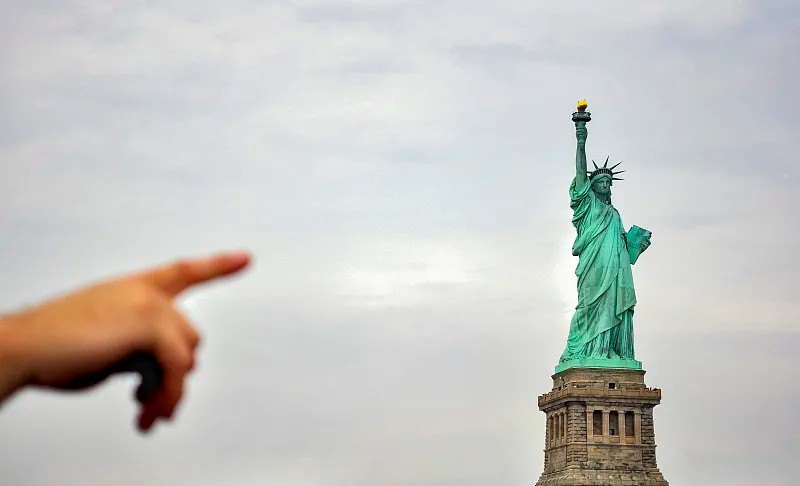SL: (538, 99, 669, 486)
